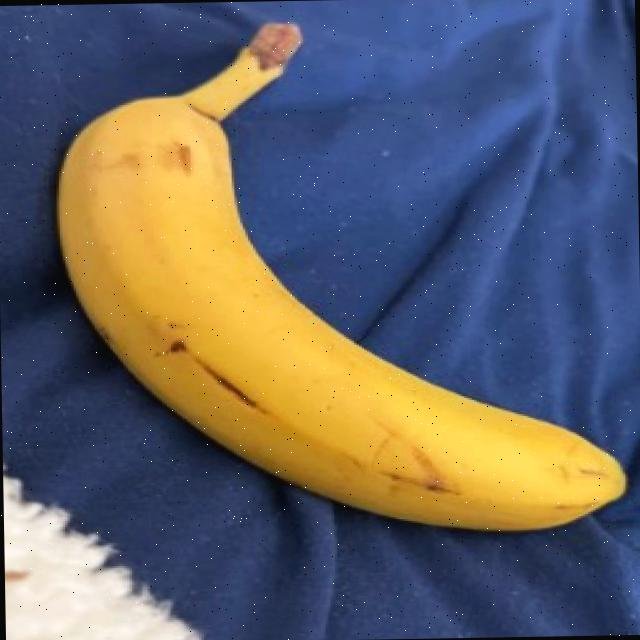Ripe: (29, 1, 640, 566)
